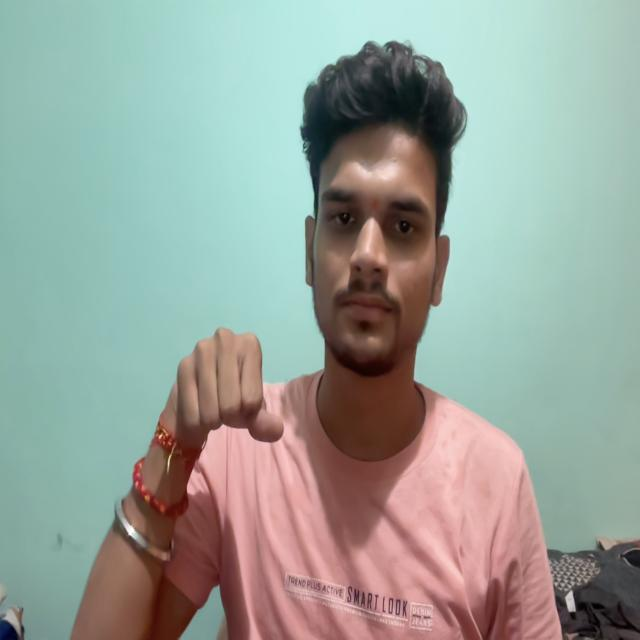yes: (129, 276, 291, 510)
